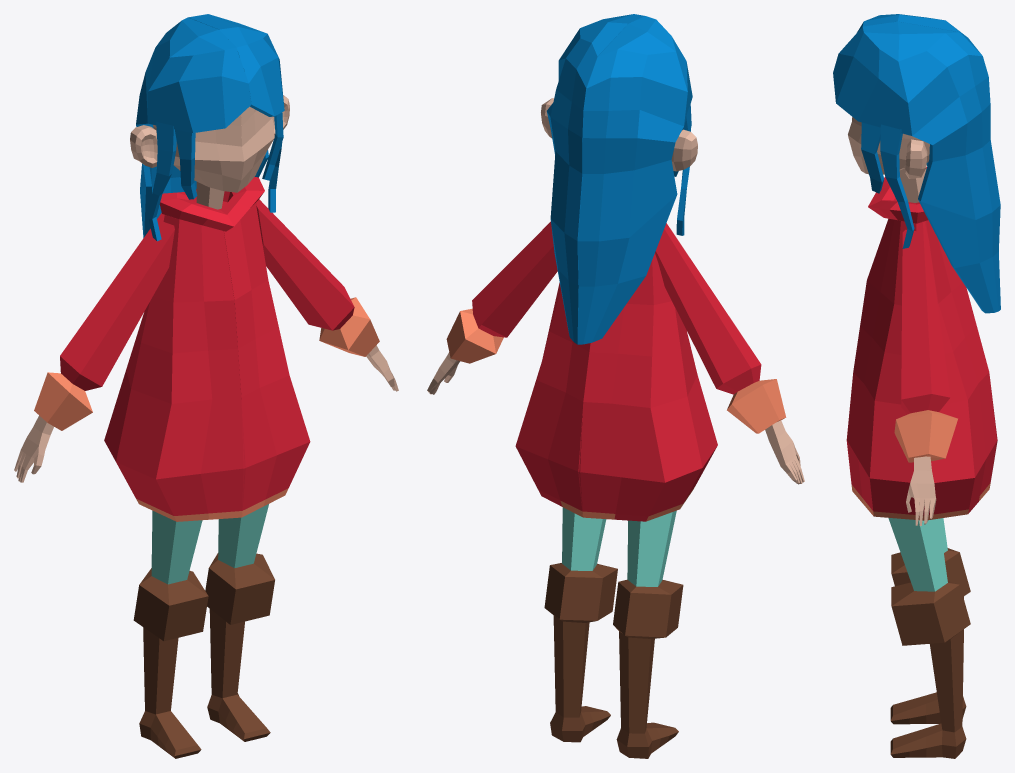
File: Girl.fbx
3 views of the same model, side by side, from view 1: azimuth 30°, elevation 25°; view 2: azimuth 150°, elevation 25°; view 3: azimuth 270°, elevation 25° (orthographic).
Parts seen in each view (by area): view 1: Cube, Cylinder, Cylinder.001, Cube.002, Cube.004, Cube.005, Cube.001, Cube.003; view 2: Cube.002, Cube, Cylinder, Cylinder.001, Cube.001, Cube.003, Cube.005; view 3: Cube.002, Cube, Cylinder, Cylinder.001, Cube.005, Cube.001, Cube.004, Cube.003, Cylinder.002.
Boxes of the visible parts, box(x1,y1,x2,y2) form: Cube: box(104, 176, 310, 521); Cylinder: box(133, 504, 274, 758); Cylinder.001: box(34, 199, 379, 430); Cube.002: box(136, 14, 284, 237); Cube.004: box(153, 106, 274, 192); Cube.005: box(148, 112, 283, 241); Cube.001: box(14, 345, 398, 482); Cube.003: box(130, 95, 289, 167); Cube.002: box(546, 14, 692, 344); Cube: box(515, 253, 717, 521); Cylinder: box(544, 507, 683, 758); Cylinder.001: box(446, 221, 786, 433); Cube.001: box(427, 352, 804, 484); Cube.003: box(541, 98, 697, 171); Cube.005: box(673, 105, 691, 235); Cube.002: box(833, 14, 1000, 313); Cube: box(846, 167, 997, 520); Cylinder: box(888, 518, 970, 758); Cylinder.001: box(894, 221, 957, 462); Cube.005: box(861, 122, 914, 248); Cube.001: box(906, 456, 936, 525); Cube.004: box(848, 117, 929, 174); Cube.003: box(905, 139, 927, 178); Cylinder.002: box(899, 168, 926, 202).
Size of the model in its own units: 207 by 375 by 79.95.
